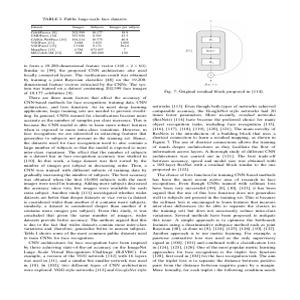diagram: (173, 16, 252, 87)
table: (29, 22, 145, 59)
text: (19, 62, 149, 274), (151, 101, 277, 274)
